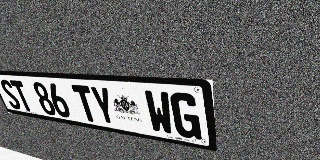6: (45, 83, 72, 118)
8: (31, 82, 57, 116)
G: (169, 92, 202, 140)
S: (0, 79, 23, 110)
T: (71, 85, 100, 123), (9, 80, 35, 112)
W: (143, 90, 175, 136)
Y: (89, 86, 118, 126)
